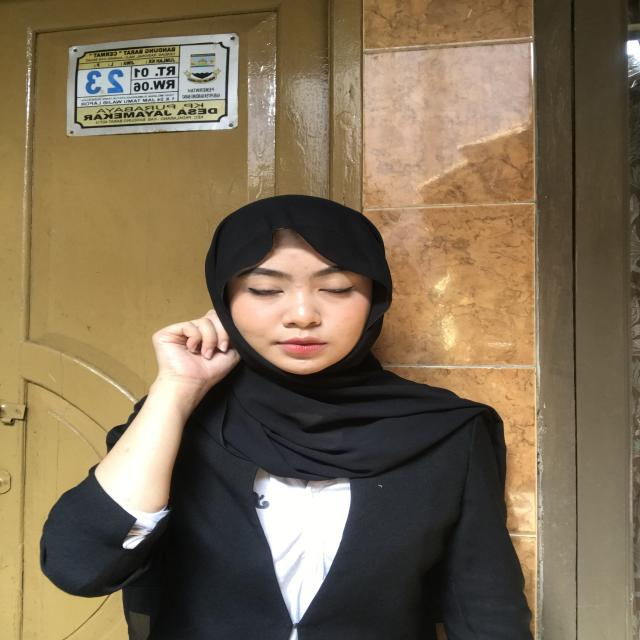ibu: (141, 302, 248, 400)
